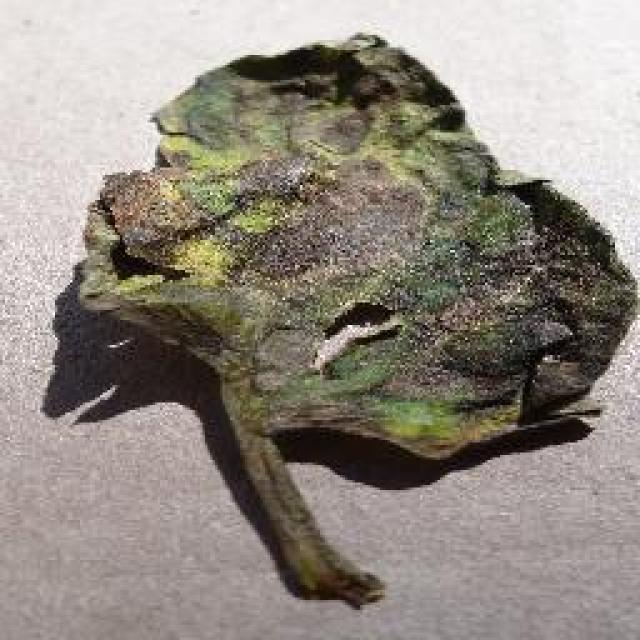Tomato Early blight leaf: (80, 39, 640, 581)
